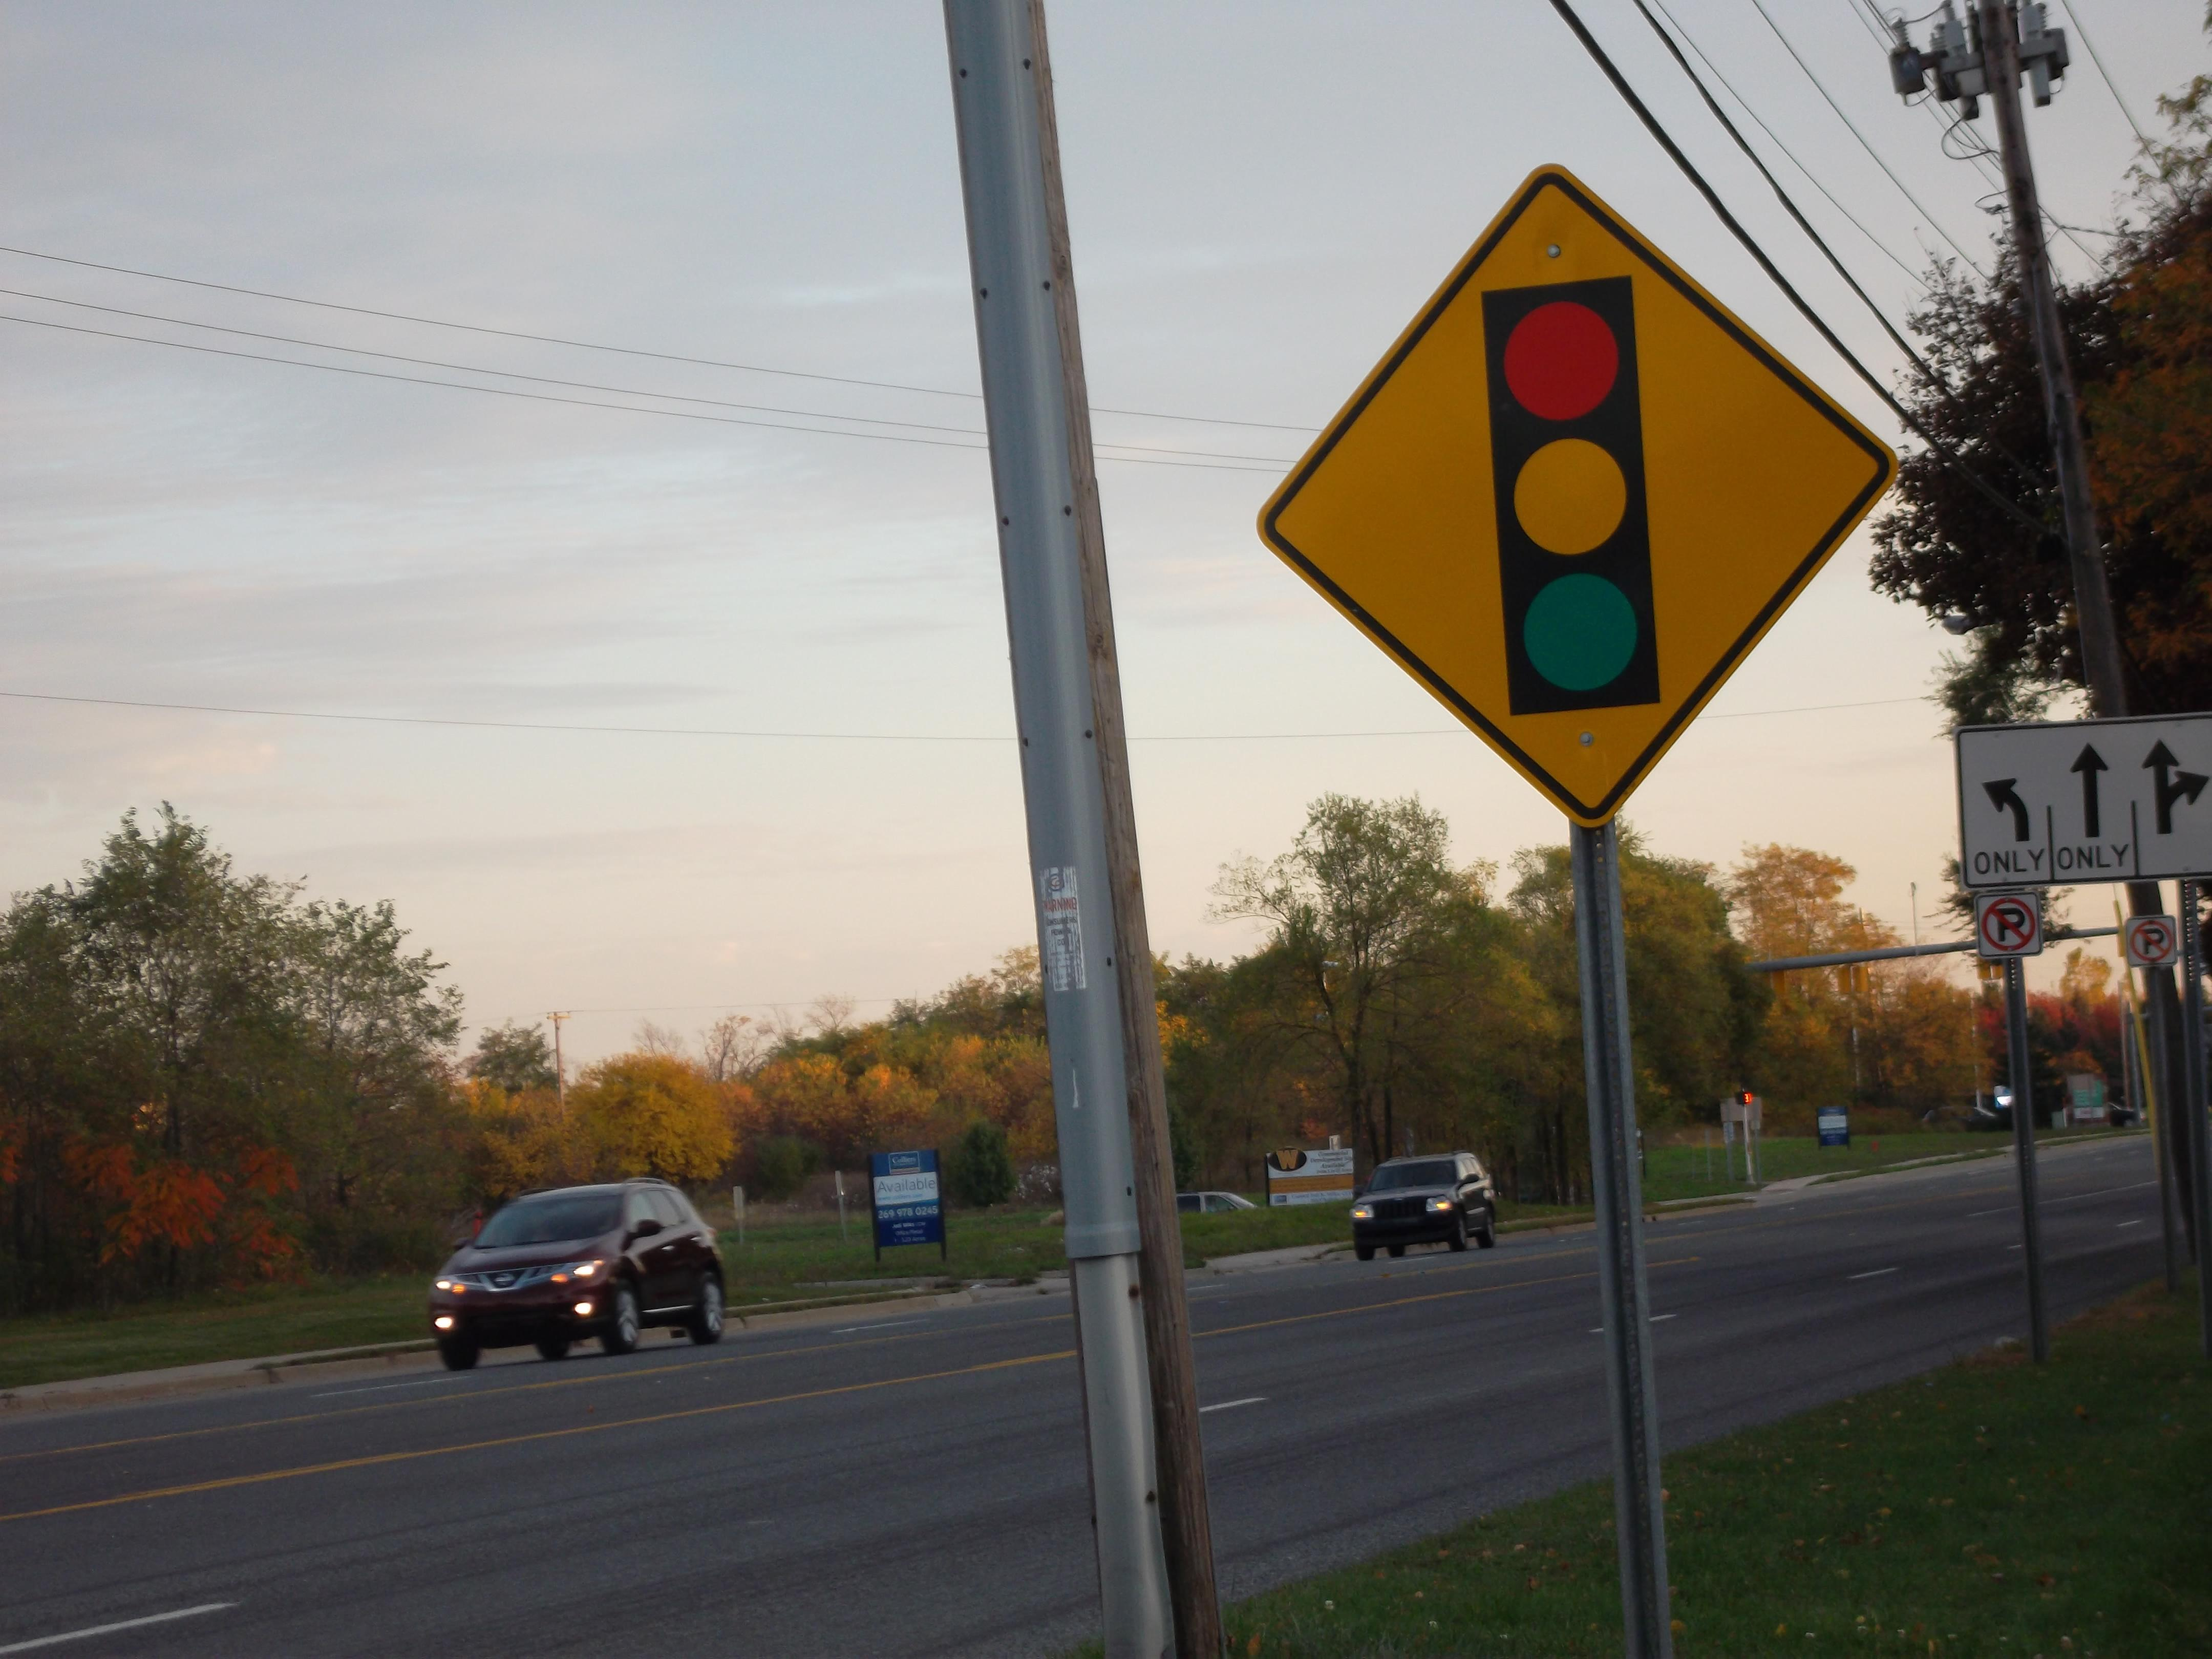regulatory: (1961, 718, 2212, 887)
warning: (1247, 164, 1893, 840)
